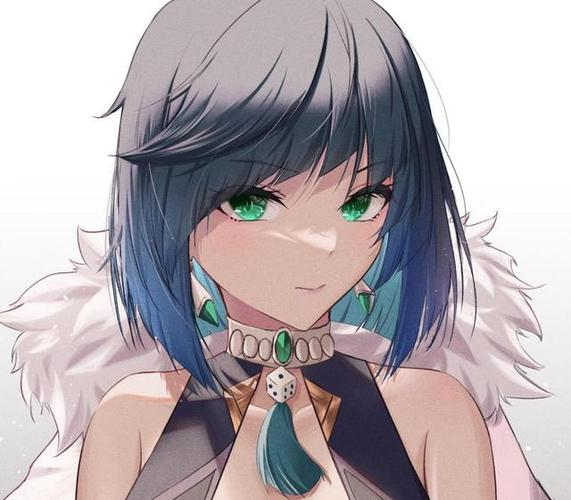夜兰: (74, 1, 505, 500)
